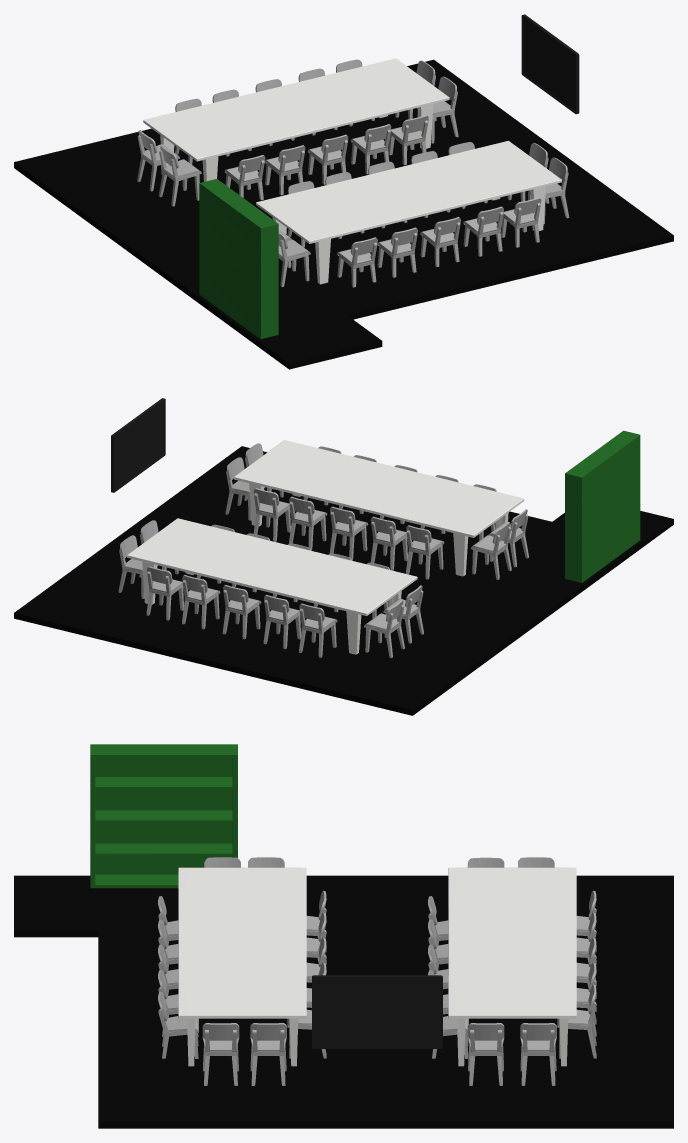
File: ltowithoutwall.fbx
3 renders of one model, top to bottom at view 1: azimuth 30°, elevation 25°; view 2: azimuth 150°, elevation 25°; view 3: azimuth 270°, elevation 25°, orthographic. The views are drawn at different scales.
Visible parts, largest first — view 1: object_1.object_2.object_3.object_4.object_5.object_6.object (×18), floor_0, Body39; view 2: object_1.object_2.object_3.object_4.object_5.object_6.object (×19), floor_0, Body39; view 3: floor_0, object_1.object_2.object_3.object_4.object_5.object_6.object (×9), Body39.
Boxes of the visible parts, x1,y1,x2,y2 form: object_1.object_2.object_3.object_4.object_5.object_6.object (×18): [137, 58, 569, 339]; floor_0: [14, 59, 673, 369]; Body39: [521, 14, 579, 114]; object_1.object_2.object_3.object_4.object_5.object_6.object (×19): [118, 430, 640, 658]; floor_0: [14, 446, 673, 715]; Body39: [111, 398, 165, 492]; floor_0: [14, 875, 673, 1128]; object_1.object_2.object_3.object_4.object_5.object_6.object (×9): [90, 744, 596, 1085]; Body39: [312, 975, 442, 1048].
Size of the model in its own units: 7.32 by 2.06 by 8.31.
